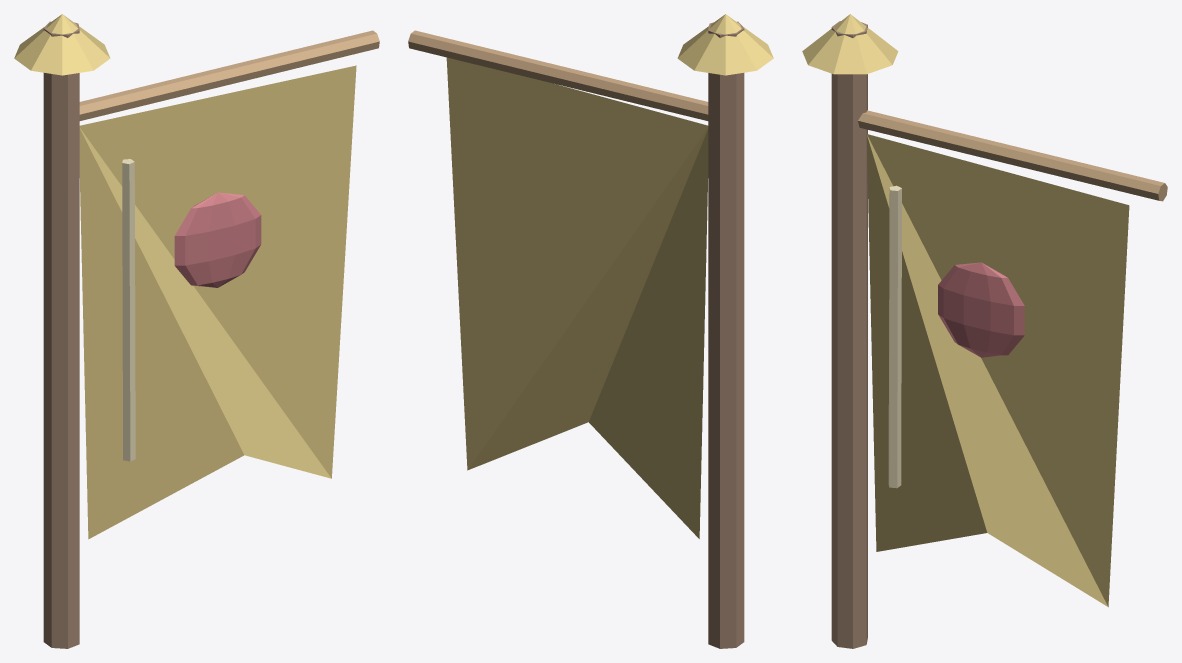
The model's file is estandarte_dorado.glb.
3 views of the same model, side by side, from view 1: azimuth 30°, elevation 25°; view 2: azimuth 150°, elevation 25°; view 3: azimuth 330°, elevation 25° (orthographic).
Parts seen in each view (by area): view 1: estandarte_dorado; view 2: estandarte_dorado; view 3: estandarte_dorado.
Boxes of the visible parts, x1,y1,x2,y2 form: estandarte_dorado: [14, 14, 379, 648]; estandarte_dorado: [408, 14, 773, 648]; estandarte_dorado: [802, 14, 1167, 648].
Bounding box in the file's own units: 1.08 × 1.84 × 0.2561.
